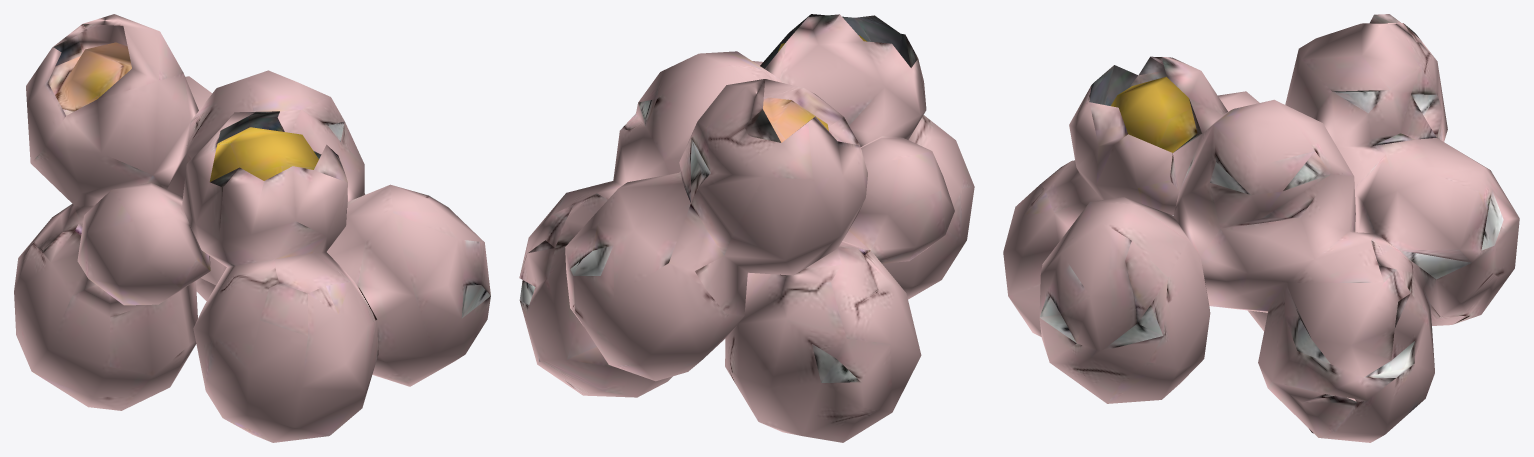
Rendered from exeggcute.glb.
The picture shows the model from 3 angles, left to right: view 1: azimuth 30°, elevation 25°; view 2: azimuth 150°, elevation 25°; view 3: azimuth 270°, elevation 25°; orthographic projection. The views are drawn at different scales.
Parts seen in each view (by area): view 1: tripo_node_7a070dc0-ac00-4528-bdfd-b9dbeca43df0; view 2: tripo_node_7a070dc0-ac00-4528-bdfd-b9dbeca43df0; view 3: tripo_node_7a070dc0-ac00-4528-bdfd-b9dbeca43df0.
Boxes of the visible parts, x1,y1,x2,y2 form: tripo_node_7a070dc0-ac00-4528-bdfd-b9dbeca43df0: (14, 14, 490, 442); tripo_node_7a070dc0-ac00-4528-bdfd-b9dbeca43df0: (519, 14, 974, 442); tripo_node_7a070dc0-ac00-4528-bdfd-b9dbeca43df0: (1003, 14, 1519, 442).
Bounding box in the file's own units: 0.7643 × 0.7335 × 0.9957.
Materials: 1 (1 with a texture image).
